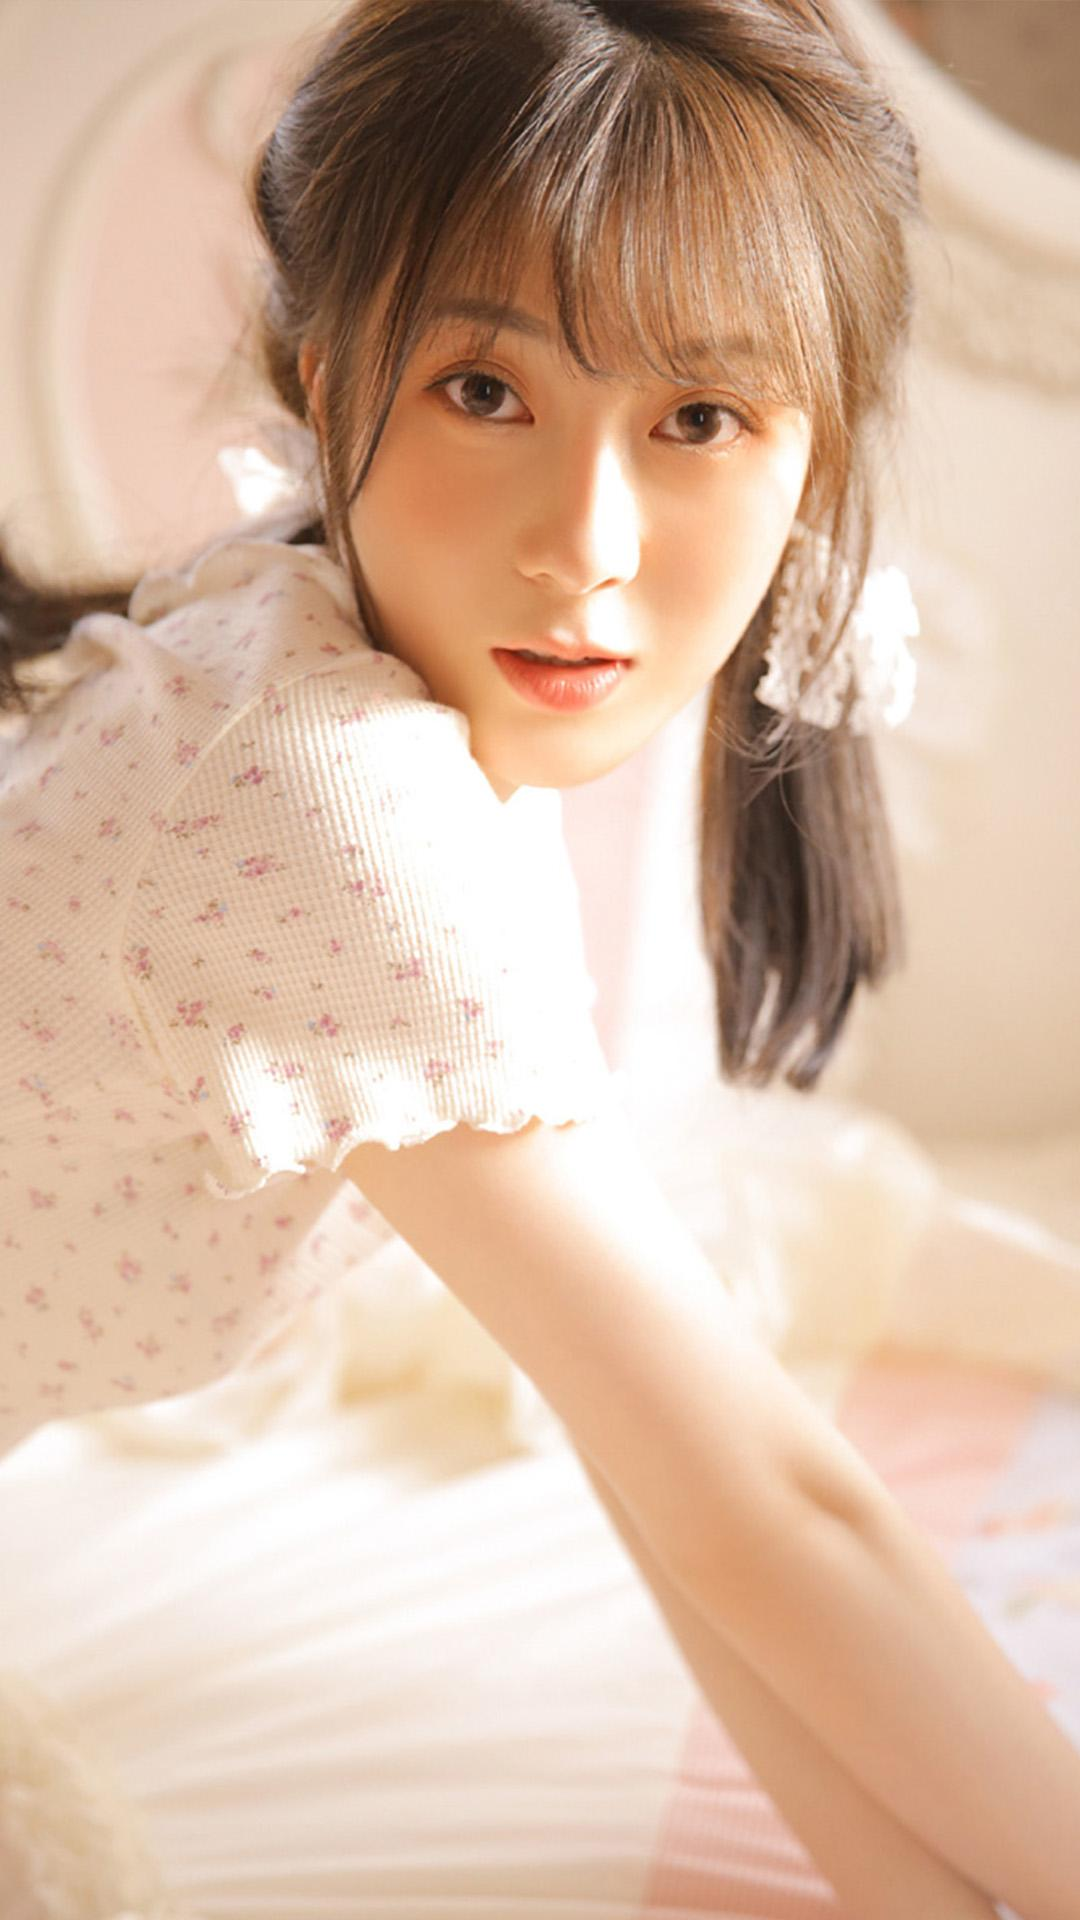person: (89, 21, 869, 1576)
